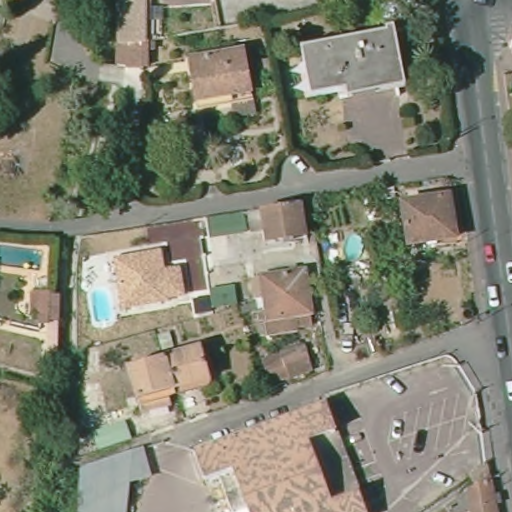pool: (1, 238, 56, 275), (88, 286, 117, 327), (340, 229, 367, 263)
